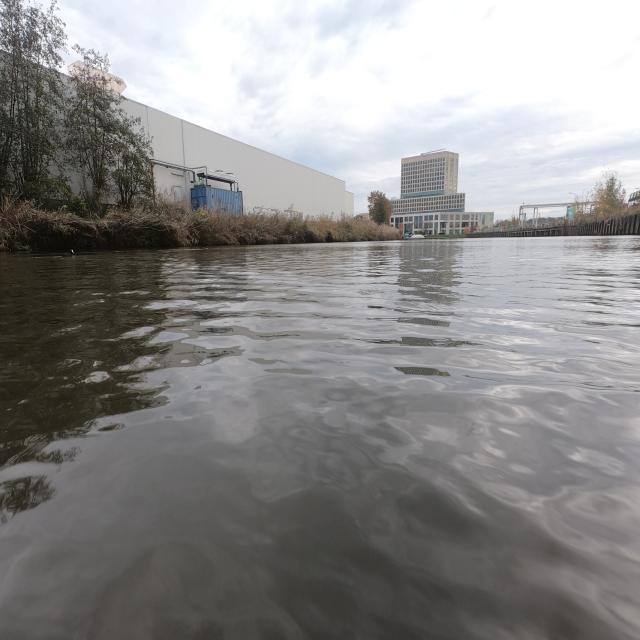reed: (4, 192, 398, 246)
sky: (56, 2, 636, 214)
water: (0, 237, 640, 640)
